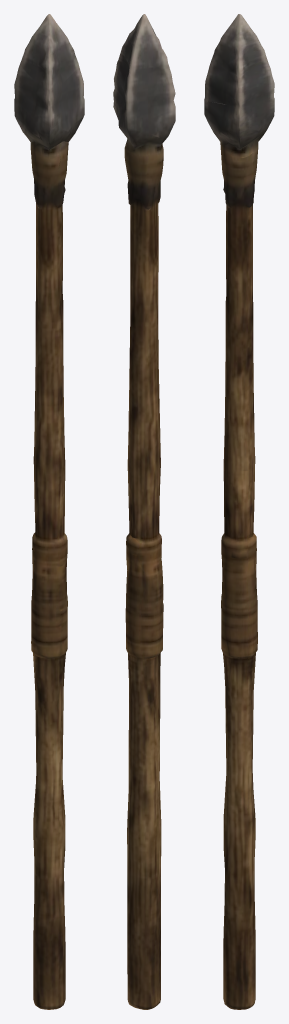
The picture shows the model from 3 angles, left to right: view 1: azimuth 90°, elevation 25°; view 2: azimuth 150°, elevation 25°; view 3: azimuth 270°, elevation 25°; orthographic projection.
Parts seen in each view (by area): view 1: obsidian-spear; view 2: obsidian-spear; view 3: obsidian-spear.
Boxes of the visible parts, x1,y1,x2,y2 form: obsidian-spear: [14, 14, 84, 1009]; obsidian-spear: [113, 14, 175, 1009]; obsidian-spear: [204, 14, 274, 1009].
Size of the model in its own units: 0.1368 by 2.1 by 0.1356.
Materials: 1 (1 with a texture image).
